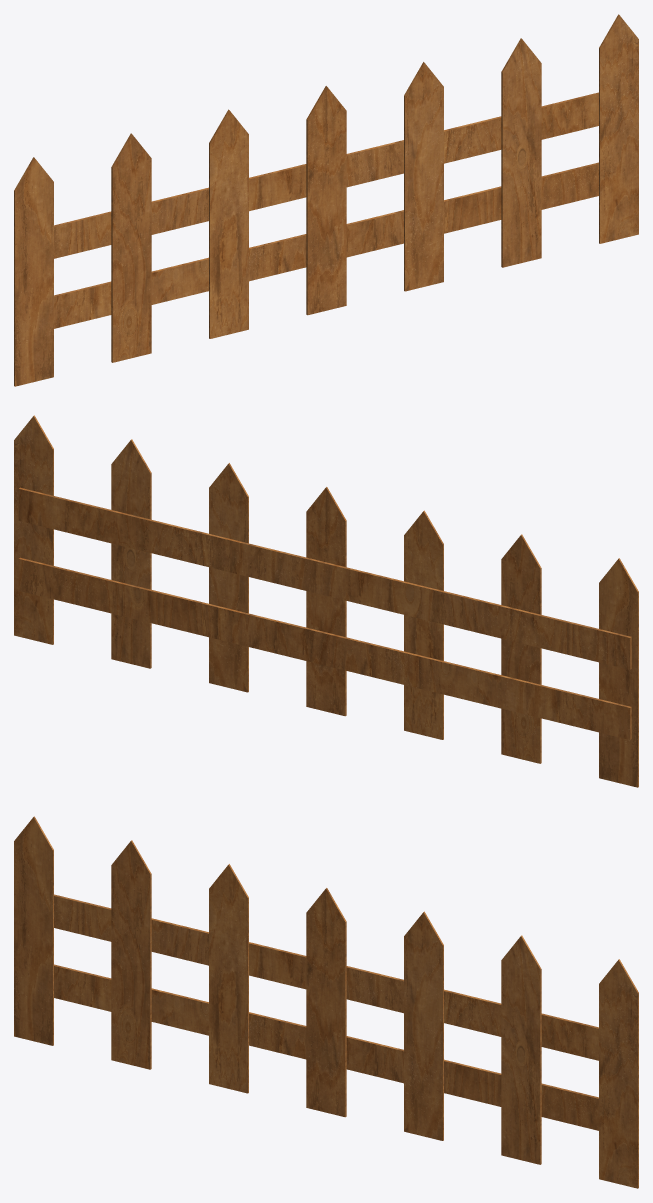
File: fence.fbx
3 views of the same model, one above another, from view 1: azimuth 30°, elevation 25°; view 2: azimuth 150°, elevation 25°; view 3: azimuth 330°, elevation 25° (orthographic).
Visible parts, largest first — view 1: Cube.008; view 2: Cube.008; view 3: Cube.008.
Boxes of the visible parts, <box> form: Cube.008: <box>14,14,638,386</box>; Cube.008: <box>14,415,638,787</box>; Cube.008: <box>14,816,638,1188</box>.
Size of the model in its own units: 3200 by 1099 by 22.91.
Materials: 1 (1 with a texture image).
